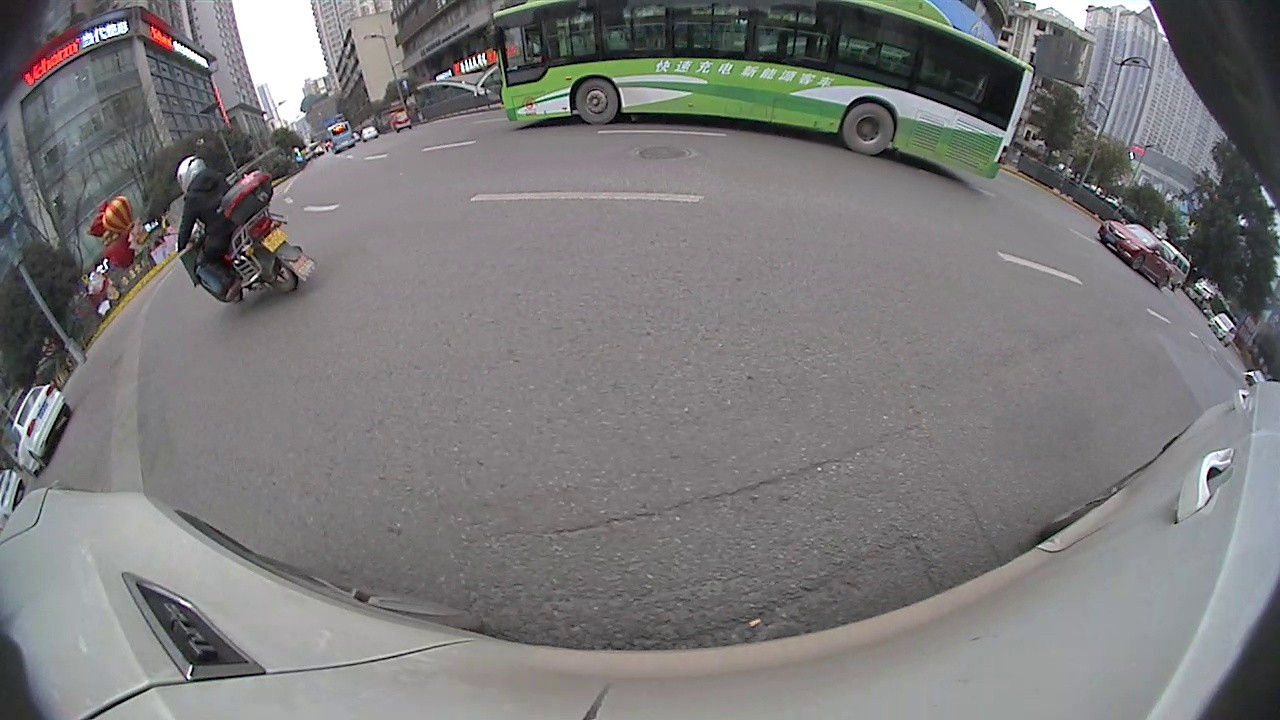bus: (492, 1, 1032, 180)
car: (11, 385, 74, 470), (1102, 222, 1170, 293)
front: (573, 81, 621, 125), (1128, 250, 1148, 273)
rear: (839, 100, 896, 155), (254, 261, 301, 295), (1153, 270, 1173, 292)
rider: (176, 155, 315, 303)
